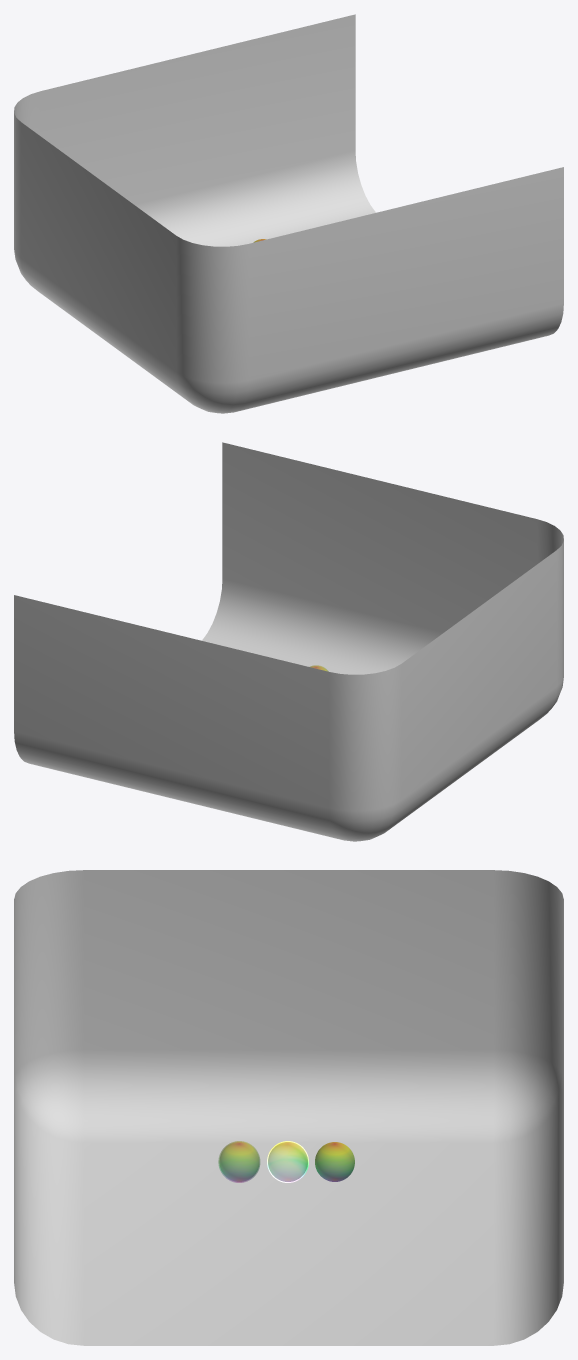
File: free_bubble_kit.glb
3 renders of one model, top to bottom at view 1: azimuth 30°, elevation 25°; view 2: azimuth 150°, elevation 25°; view 3: azimuth 270°, elevation 25°, orthographic. The views are drawn at different scales.
Parts seen in each view (by area): view 1: Plane_5; view 2: Plane_5; view 3: Plane_5, Sphere.003_2, Sphere.004_1, Sphere.002_3.
Boxes of the visible parts, left/top/right/bottom form: Plane_5: left=14, top=14, right=563, bottom=413; Plane_5: left=14, top=442, right=563, bottom=841; Plane_5: left=14, top=870, right=563, bottom=1345; Sphere.003_2: left=267, top=1141, right=308, bottom=1182; Sphere.004_1: left=218, top=1141, right=259, bottom=1182; Sphere.002_3: left=315, top=1142, right=354, bottom=1181.
Size of what is drawn, in the model's own units: 7.47 by 3.64 by 7.47.
5 materials, 3 textured.
